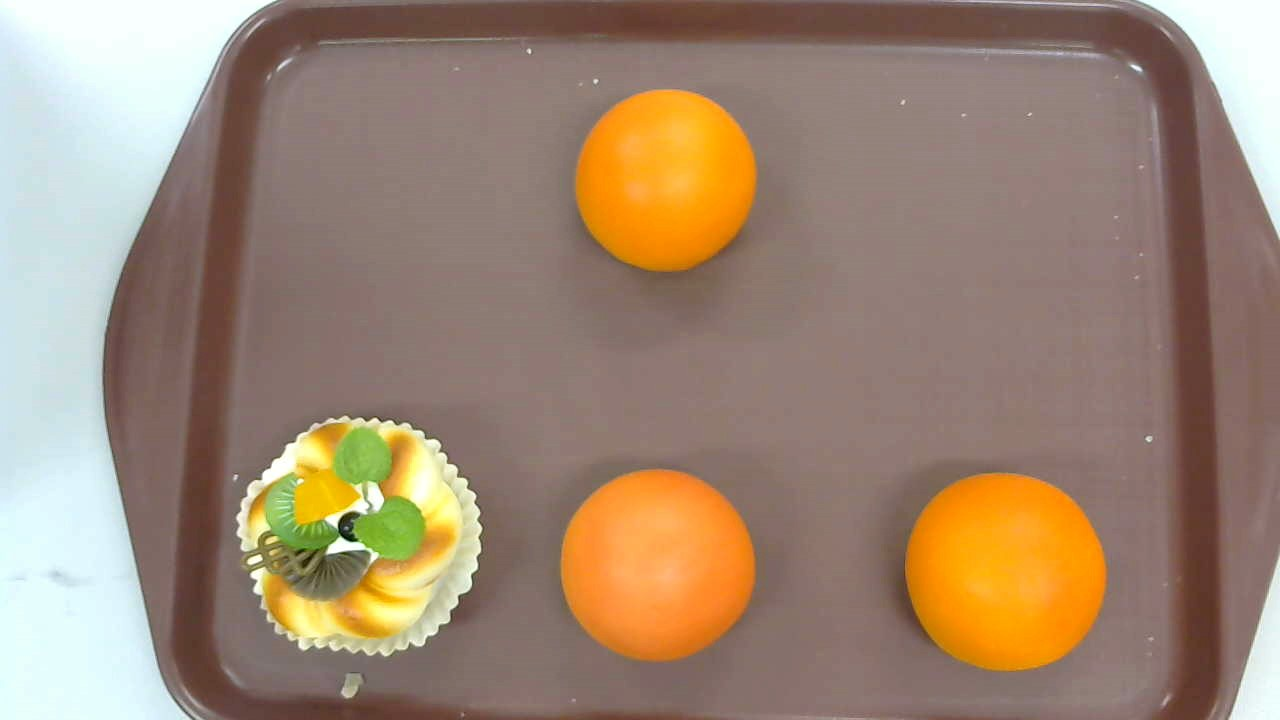bun: (906, 471, 1108, 673), (560, 469, 755, 662), (574, 88, 757, 272)
fruit tart: (232, 414, 482, 656)
